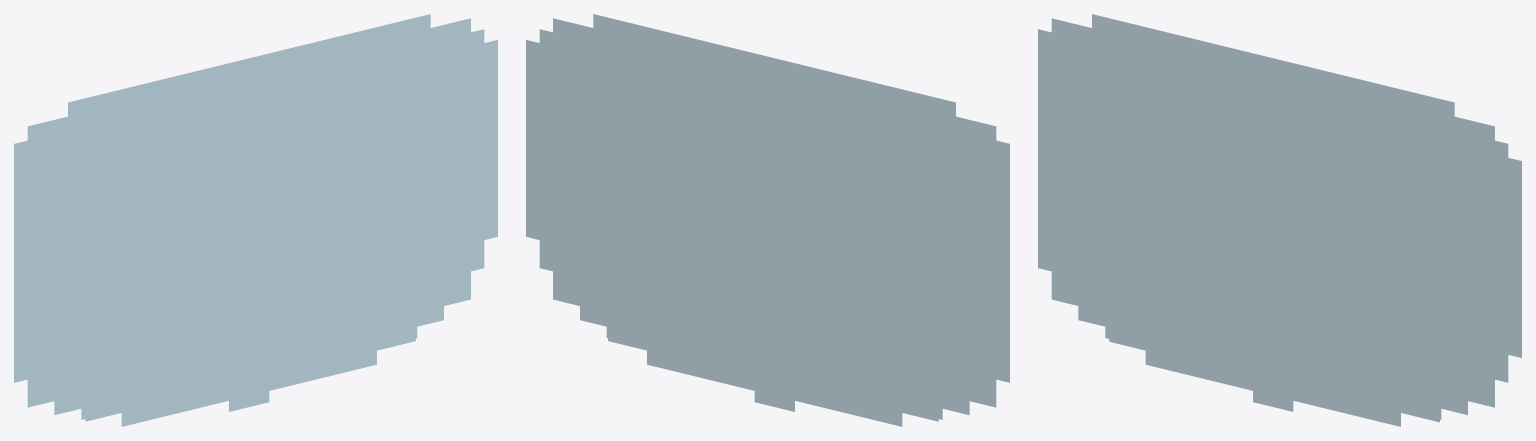
File: wp_water_225.obj
3 renders of one model, left to right at view 1: azimuth 30°, elevation 25°; view 2: azimuth 150°, elevation 25°; view 3: azimuth 330°, elevation 25°, orthographic.
Size of the model in its own units: 0.5076 by 0.3497 by 0.
Materials: 1 (1 with a texture image).
